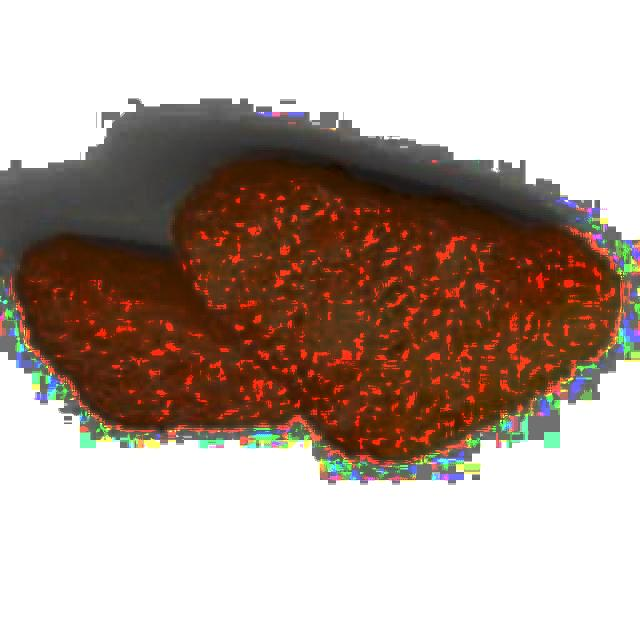Hashbrown: (173, 157, 619, 457), (19, 236, 299, 426)
